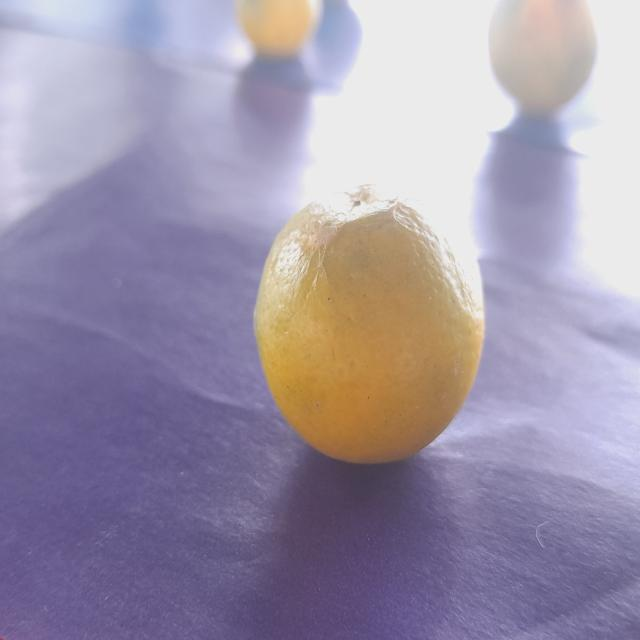greening: (243, 164, 501, 480)
